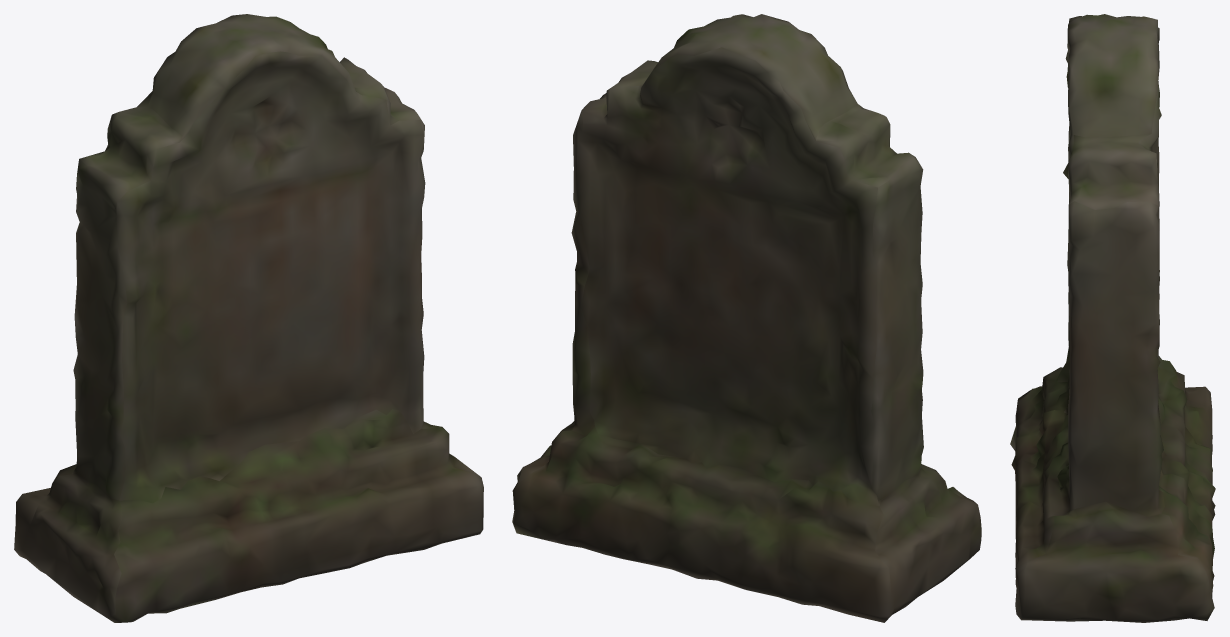
The model's file is Tombstone_02.fbx.
3 views of the same model, side by side, from view 1: azimuth 30°, elevation 25°; view 2: azimuth 150°, elevation 25°; view 3: azimuth 270°, elevation 25° (orthographic).
Visible parts, largest first — view 1: Tombstone_02; view 2: Tombstone_02; view 3: Tombstone_02.
Boxes of the visible parts, x1,y1,x2,y2 form: Tombstone_02: (14,14,483,622); Tombstone_02: (512,14,981,622); Tombstone_02: (1010,14,1215,622).
Size of what is drawn, in the model's own units: 111 by 144 by 52.41.
